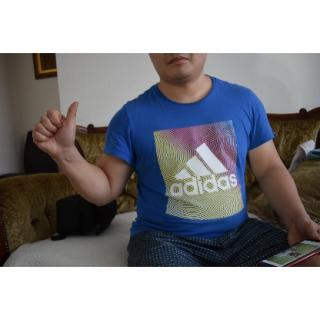DAD: (30, 97, 85, 159)
